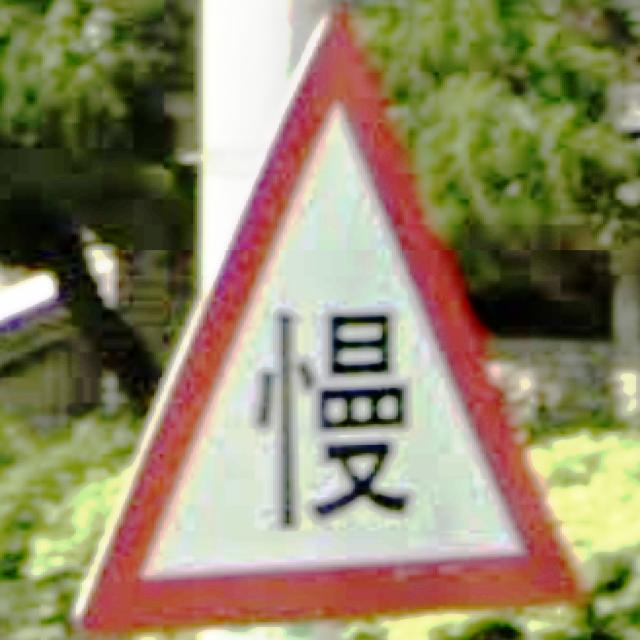slow: (76, 10, 587, 640)
